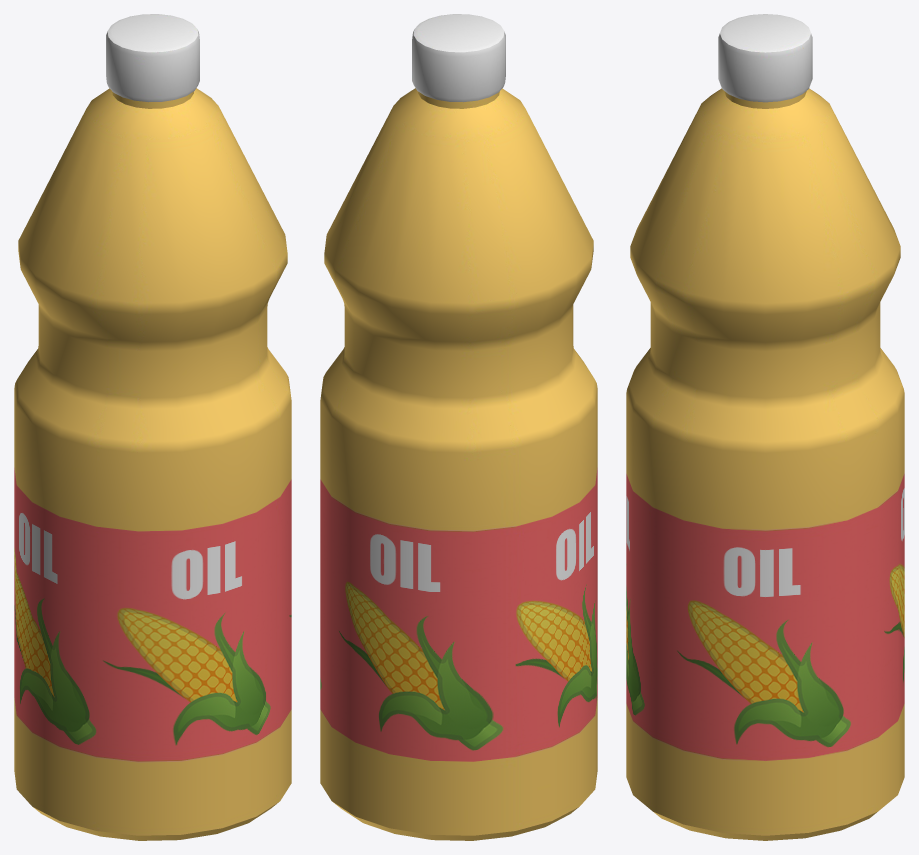
File: Corn_oil.fbx
3 renders of one model, left to right at view 1: azimuth 30°, elevation 25°; view 2: azimuth 150°, elevation 25°; view 3: azimuth 270°, elevation 25°, orthographic.
Parts seen in each view (by area): view 1: Corn_oil; view 2: Corn_oil; view 3: Corn_oil.
Boxes of the visible parts, left/top/right/bottom form: Corn_oil: left=14, top=14, right=291, bottom=840; Corn_oil: left=320, top=14, right=597, bottom=840; Corn_oil: left=626, top=14, right=904, bottom=840.
Bounding box in the file's own units: 2.76 × 8.24 × 2.76.
1 material, 1 textured.
